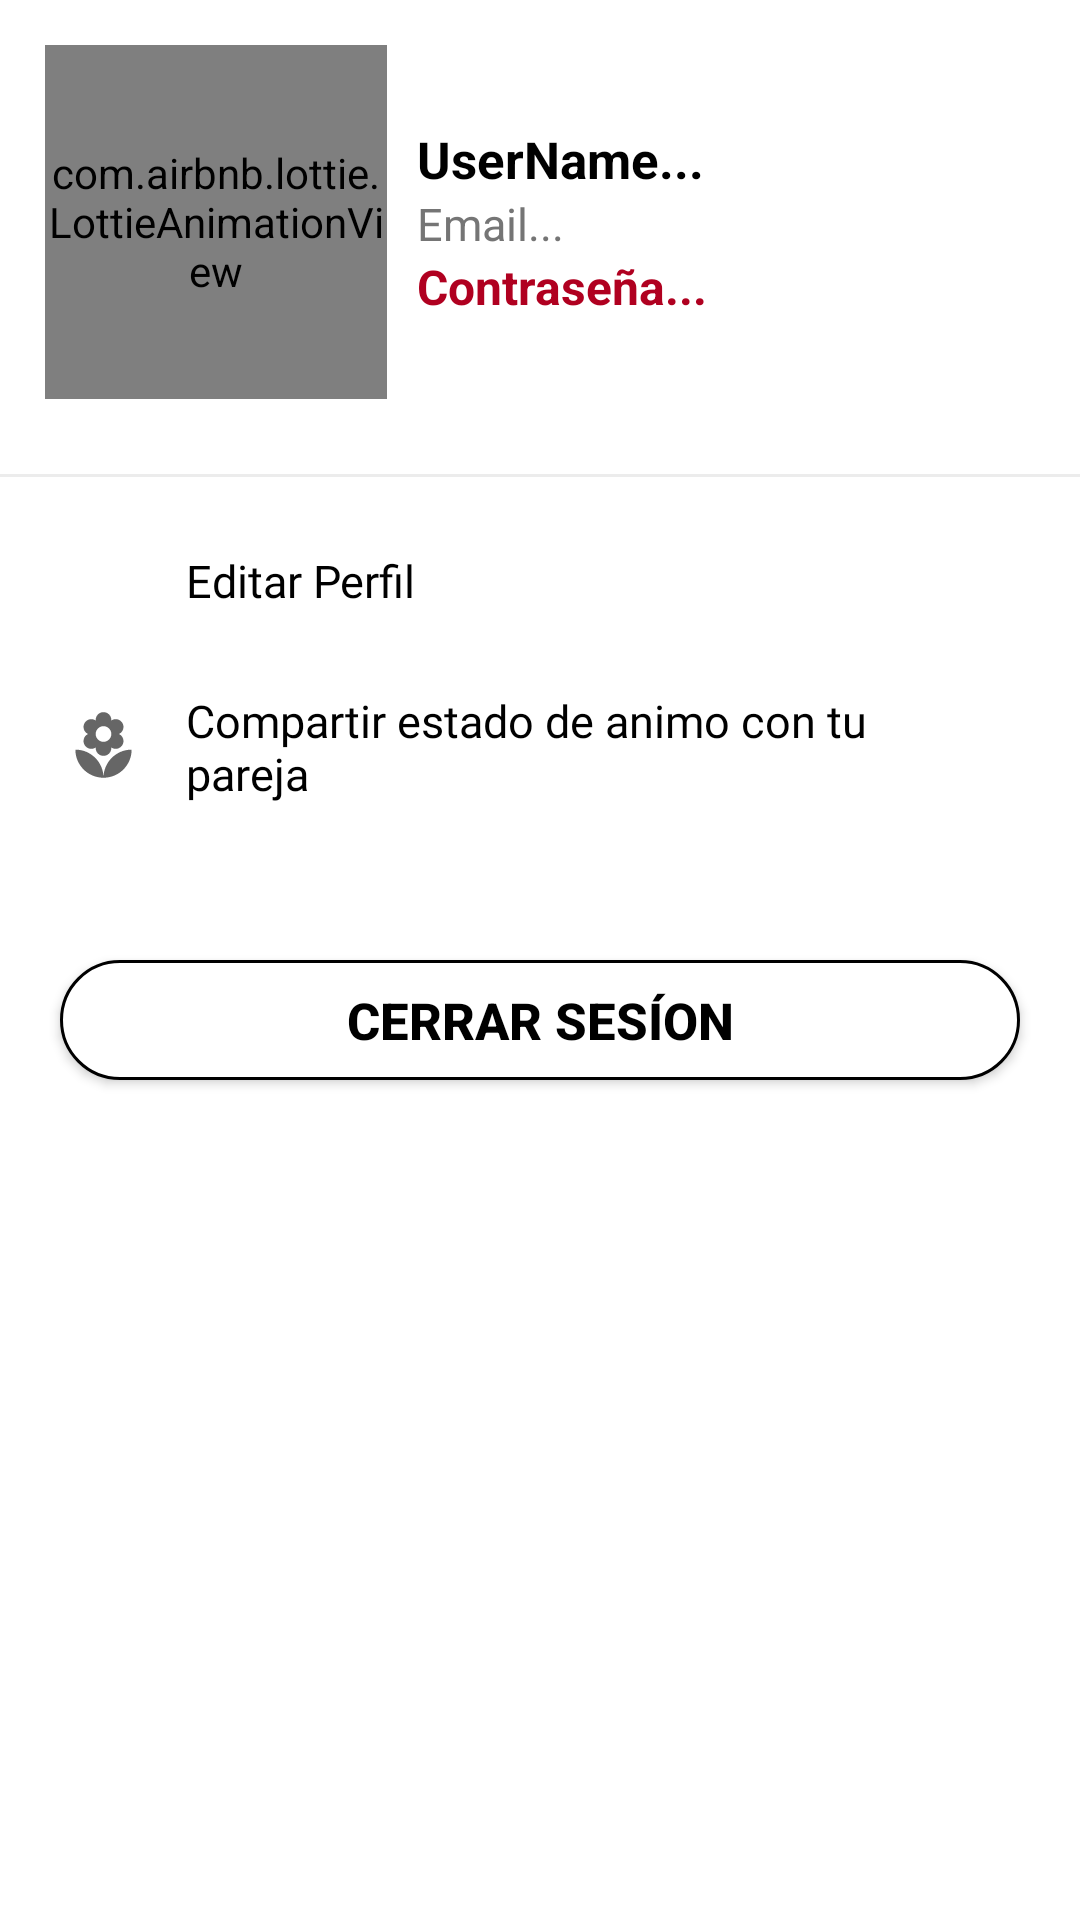

Where to tap for icons on this 1080 × 1920 app screen, as point (x, y):
florist: point (103, 745)
